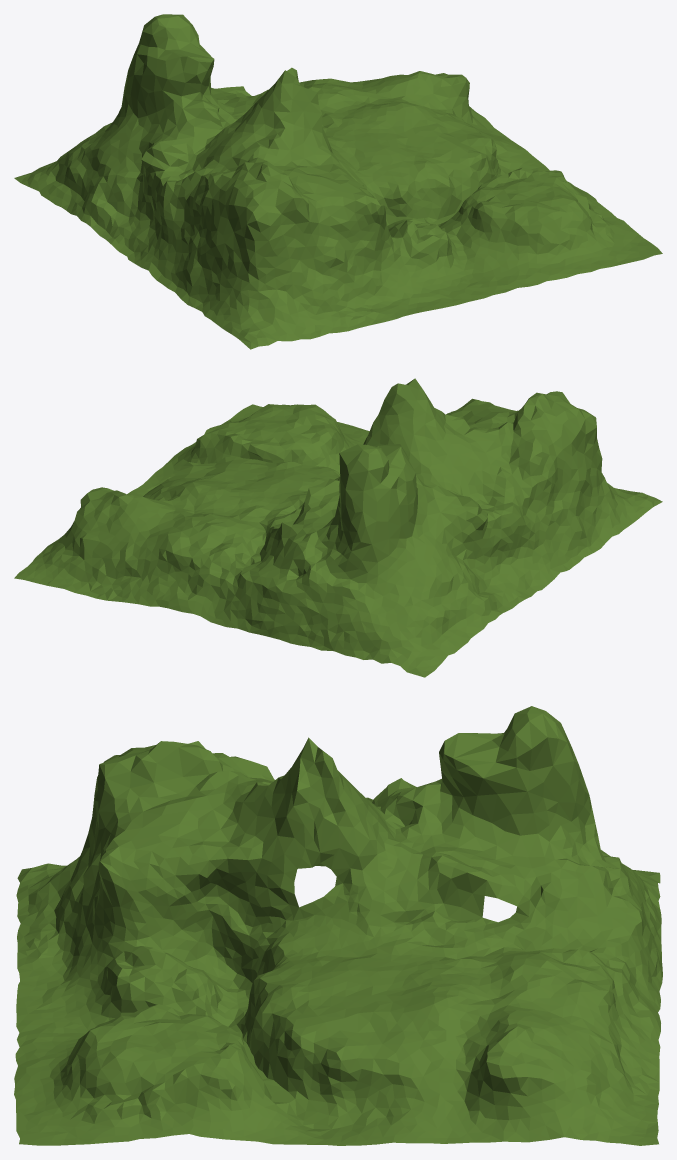
Rendered from ZLP_Terrain_A_1.FBX.
The picture shows the model from 3 angles, top to bottom: view 1: azimuth 30°, elevation 25°; view 2: azimuth 150°, elevation 25°; view 3: azimuth 270°, elevation 25°; orthographic projection. The views are drawn at different scales.
Parts seen in each view (by area): view 1: ZLP_Terrain_A_1; view 2: ZLP_Terrain_A_1; view 3: ZLP_Terrain_A_1.
Boxes of the visible parts, left/top/right/bottom form: ZLP_Terrain_A_1: left=14, top=14, right=662, bottom=349; ZLP_Terrain_A_1: left=14, top=378, right=662, bottom=677; ZLP_Terrain_A_1: left=14, top=706, right=662, bottom=1145.
Bounding box in the file's own units: 34394 × 13915 × 34638.
